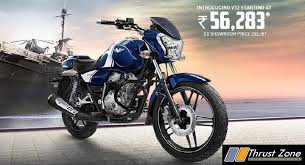bike: (53, 10, 232, 159)
